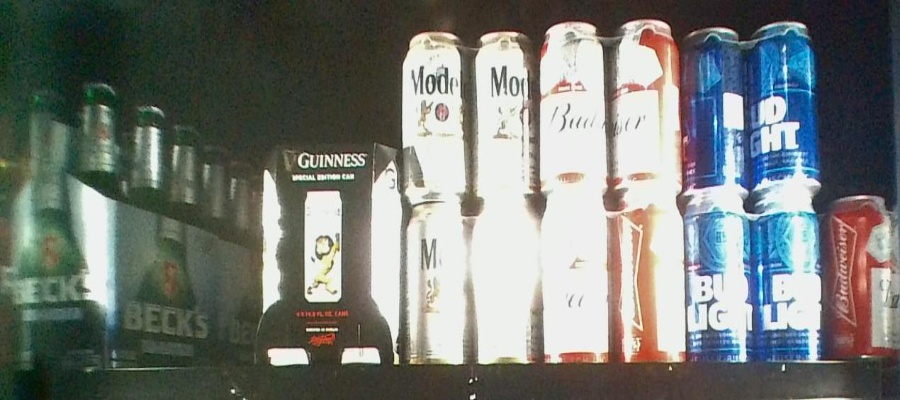bottle: (537, 23, 687, 363), (687, 21, 826, 362), (401, 28, 541, 366), (261, 141, 399, 366)
